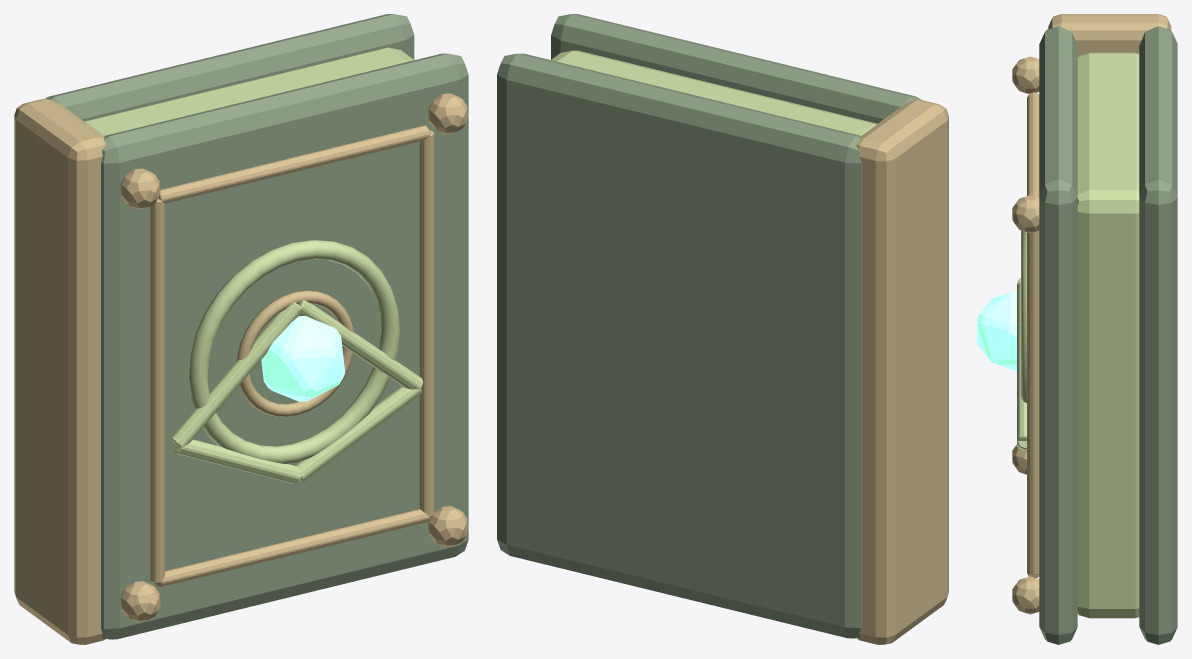
The model's file is mage-book-04-verdant-tome.glb.
3 renders of one model, left to right at view 1: azimuth 30°, elevation 25°; view 2: azimuth 150°, elevation 25°; view 3: azimuth 270°, elevation 25°, orthographic. The views are drawn at different scales.
Visible parts, largest first — view 1: mage-book-04-verdant-tome_FrontCover, mage-book-04-verdant-tome_Spine, mage-book-04-verdant-tome_BackCover, mage-book-04-verdant-tome_CoverSigilRing, mage-book-04-verdant-tome_PageBlock, mage-book-04-verdant-tome_GiltFrameSide_1, mage-book-04-verdant-tome_GiltFrameSide_-1, mage-book-04-verdant-tome_CoverGem, mage-book-04-verdant-tome_GiltFrame_0.86, mage-book-04-verdant-tome_GiltFrame_0.1, mage-book-04-verdant-tome_CoverSigilInner, mage-book-04-verdant-tome_CoverVineTip_-1 (+7 smaller); view 2: mage-book-04-verdant-tome_BackCover, mage-book-04-verdant-tome_Spine, mage-book-04-verdant-tome_FrontCover, mage-book-04-verdant-tome_PageBlock; view 3: mage-book-04-verdant-tome_PageBlock, mage-book-04-verdant-tome_FrontCover, mage-book-04-verdant-tome_BackCover, mage-book-04-verdant-tome_GiltFrameSide_1, mage-book-04-verdant-tome_Spine, mage-book-04-verdant-tome_CoverGem, mage-book-04-verdant-tome_GiltFrame_0.86, mage-book-04-verdant-tome_CoverSigilRing, mage-book-04-verdant-tome_CornerStud_1_0.89, mage-book-04-verdant-tome_CornerStud_1_0.07, mage-book-04-verdant-tome_CornerStud_-1_0.89, mage-book-04-verdant-tome_CoverVineTip_1 (+1 smaller).
Boxes of the visible parts, x1,y1,x2,y2 form: mage-book-04-verdant-tome_FrontCover: [101, 53, 468, 639]; mage-book-04-verdant-tome_Spine: [14, 99, 105, 644]; mage-book-04-verdant-tome_BackCover: [45, 14, 414, 121]; mage-book-04-verdant-tome_CoverSigilRing: [188, 240, 399, 463]; mage-book-04-verdant-tome_PageBlock: [84, 47, 414, 135]; mage-book-04-verdant-tome_GiltFrameSide_1: [419, 130, 434, 516]; mage-book-04-verdant-tome_GiltFrameSide_-1: [150, 198, 164, 582]; mage-book-04-verdant-tome_CoverGem: [261, 316, 345, 401]; mage-book-04-verdant-tome_GiltFrame_0.86: [158, 125, 429, 203]; mage-book-04-verdant-tome_GiltFrame_0.1: [155, 509, 429, 587]; mage-book-04-verdant-tome_CoverSigilInner: [236, 290, 353, 416]; mage-book-04-verdant-tome_CoverVineTip_-1: [170, 302, 301, 447]; mage-book-04-verdant-tome_BackCover: [497, 53, 861, 638]; mage-book-04-verdant-tome_Spine: [856, 100, 948, 644]; mage-book-04-verdant-tome_FrontCover: [551, 14, 921, 123]; mage-book-04-verdant-tome_PageBlock: [551, 50, 877, 135]; mage-book-04-verdant-tome_PageBlock: [1077, 52, 1139, 618]; mage-book-04-verdant-tome_FrontCover: [1039, 26, 1077, 644]; mage-book-04-verdant-tome_BackCover: [1139, 26, 1177, 644]; mage-book-04-verdant-tome_GiltFrameSide_1: [1027, 231, 1039, 575]; mage-book-04-verdant-tome_Spine: [1048, 14, 1171, 56]; mage-book-04-verdant-tome_CoverGem: [977, 291, 1017, 370]; mage-book-04-verdant-tome_GiltFrame_0.86: [1027, 92, 1039, 197]; mage-book-04-verdant-tome_CoverSigilRing: [1021, 230, 1026, 402]; mage-book-04-verdant-tome_CornerStud_1_0.89: [1012, 195, 1039, 233]; mage-book-04-verdant-tome_CornerStud_1_0.07: [1012, 576, 1039, 614]; mage-book-04-verdant-tome_CornerStud_-1_0.89: [1012, 56, 1039, 93]; mage-book-04-verdant-tome_CoverVineTip_1: [1017, 282, 1026, 440].
Bounding box in the file's own units: 0.825 × 1 × 0.3912.
